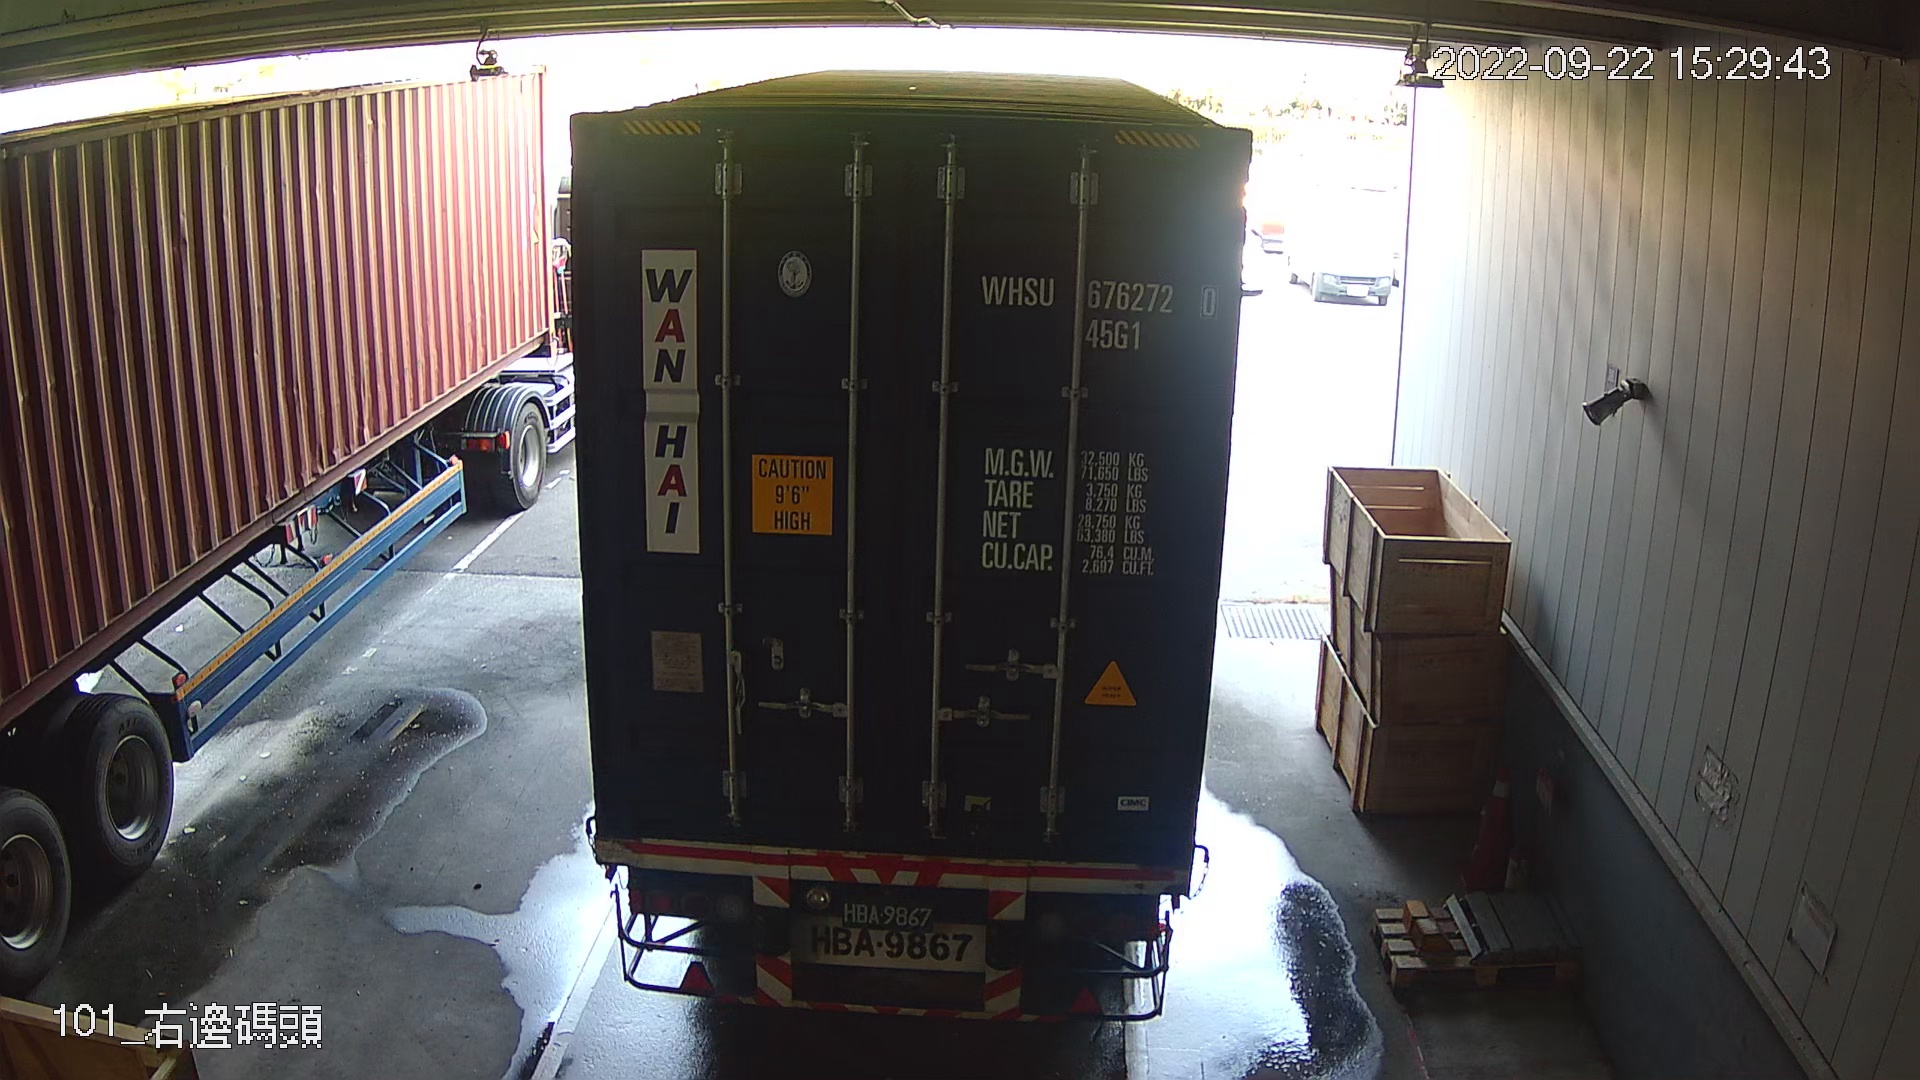container: (963, 260, 1222, 357)
